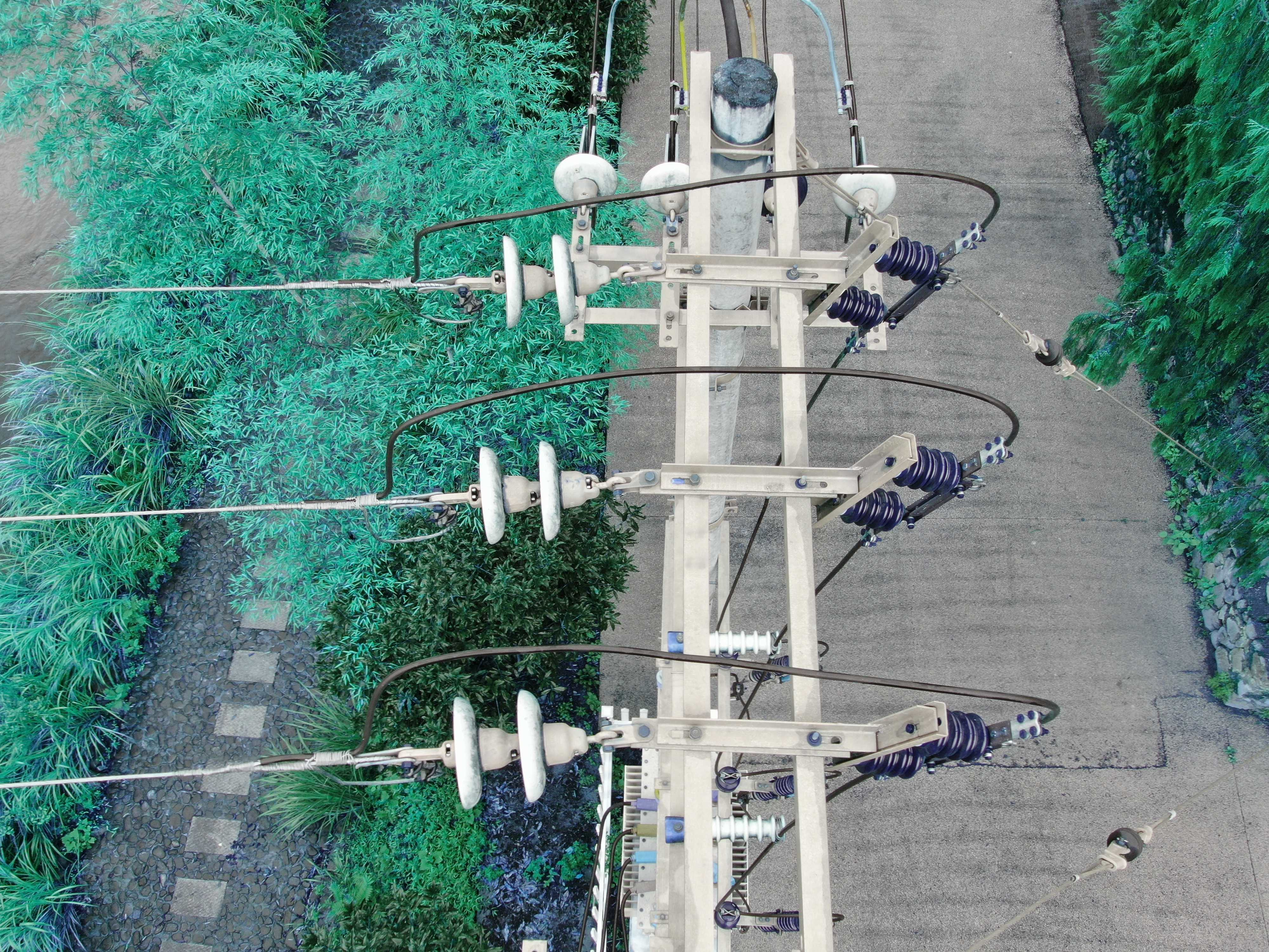severe_soiling_no_discharge_whole: (447, 676, 592, 816), (473, 433, 603, 548), (497, 227, 615, 334), (550, 152, 620, 208), (639, 156, 690, 215)
